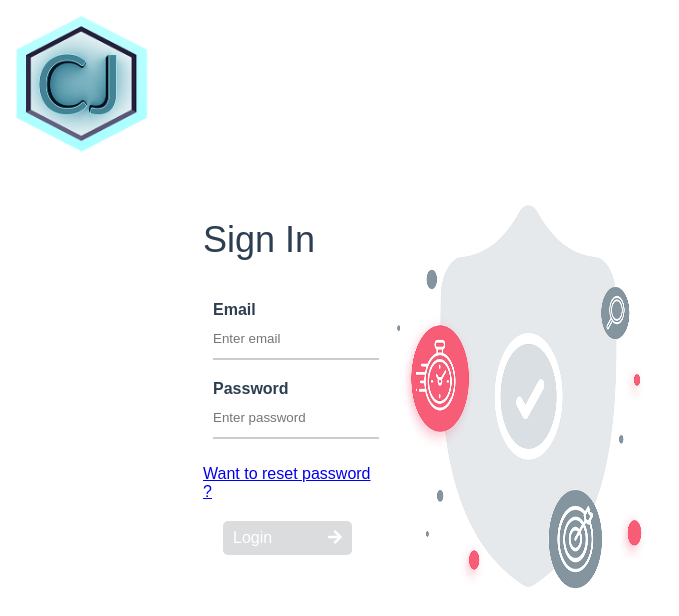
Login App form test › Submit form with empty fields
The image size is (679, 616).
Expected: the element with class "form" is shown, [203, 199, 662, 599]
In the field named "email": (312, 340) [213, 319, 410, 360], type "eve.holt@test.in"
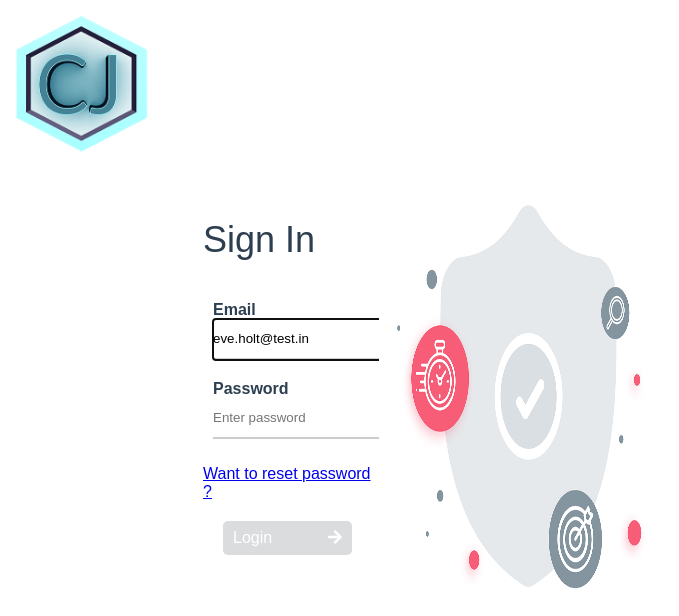
Click the button "Login": click(288, 538) [223, 521, 352, 555]
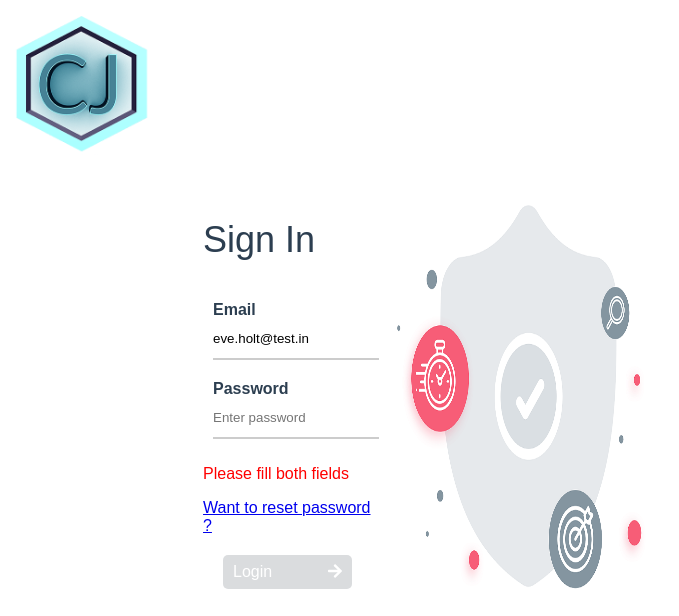
Now the text "Please fill both fields" is shown, box [203, 465, 349, 482]
